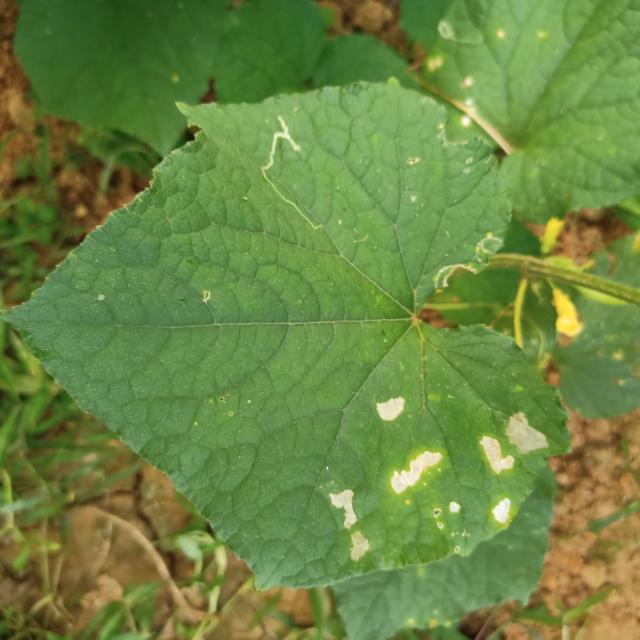disease_cucumber: (476, 406, 552, 530), (383, 444, 464, 528), (326, 482, 372, 567), (372, 390, 408, 430)
